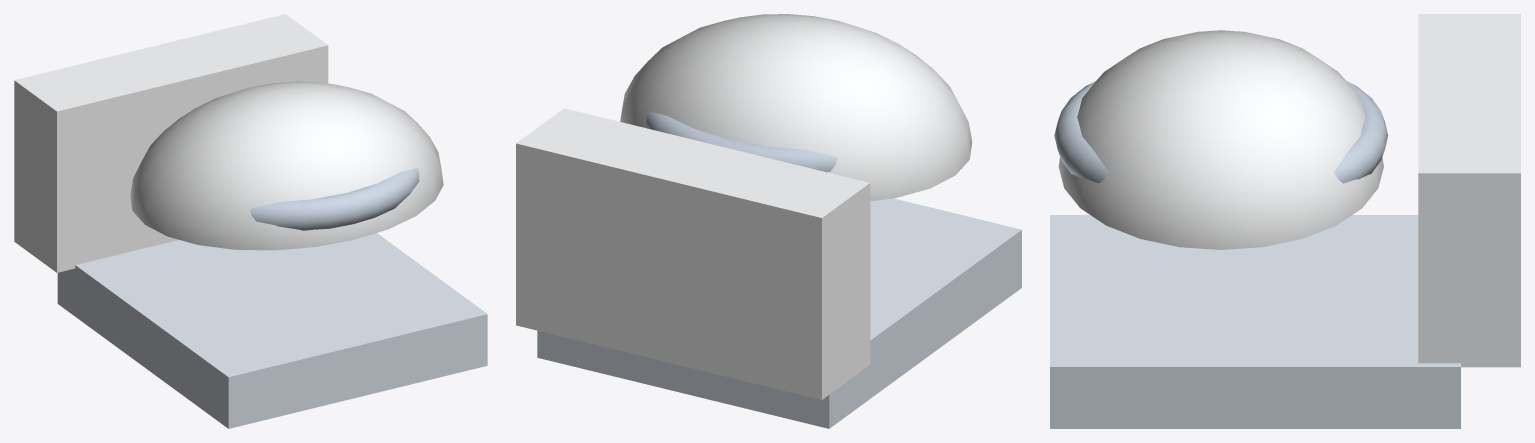
File: toilet.glb
The picture shows the model from 3 angles, left to right: view 1: azimuth 30°, elevation 25°; view 2: azimuth 150°, elevation 25°; view 3: azimuth 270°, elevation 25°; orthographic projection. The views are drawn at different scales.
Visible parts, largest first — view 1: toilet base plinth, rectangular flush tank, rounded ceramic toilet bowl, open toilet seat ring; view 2: rectangular flush tank, rounded ceramic toilet bowl, toilet base plinth, open toilet seat ring; view 3: toilet base plinth, rounded ceramic toilet bowl, rectangular flush tank, open toilet seat ring.
Boxes of the visible parts, x1,y1,x2,y2 form: toilet base plinth: (57,233,487,428); rectangular flush tank: (14,14,328,272); rounded ceramic toilet bowl: (130,81,443,250); open toilet seat ring: (165,129,419,230); rectangular flush tank: (516,108,870,399); rounded ceramic toilet bowl: (620,14,972,201); toilet base plinth: (537,198,1021,428); open toilet seat ring: (646,68,932,172); toilet base plinth: (1050,215,1460,428); rounded ceramic toilet bowl: (1058,30,1383,249); rectangular flush tank: (1418,14,1520,367); open toilet seat ring: (1054,81,1388,183).
Bounding box in the file's own units: 0.47 × 0.38 × 0.55.
